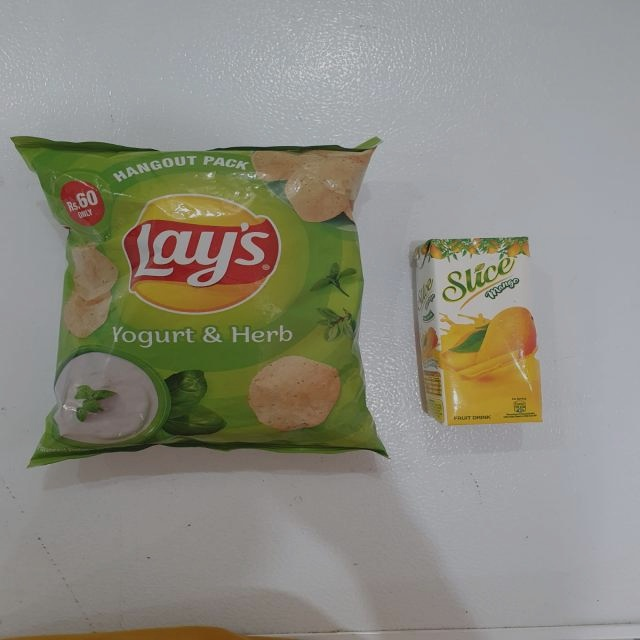lays-large: (63, 151, 363, 444)
slice-200ml: (433, 241, 539, 419)
